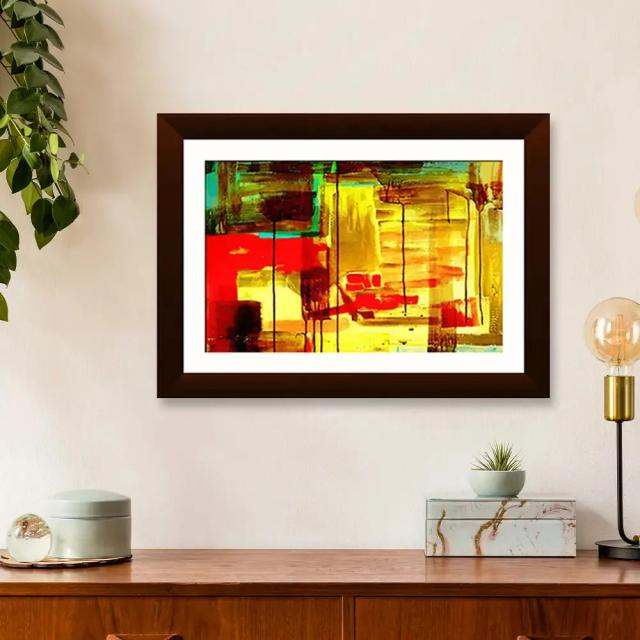painting: (156, 110, 550, 397)
